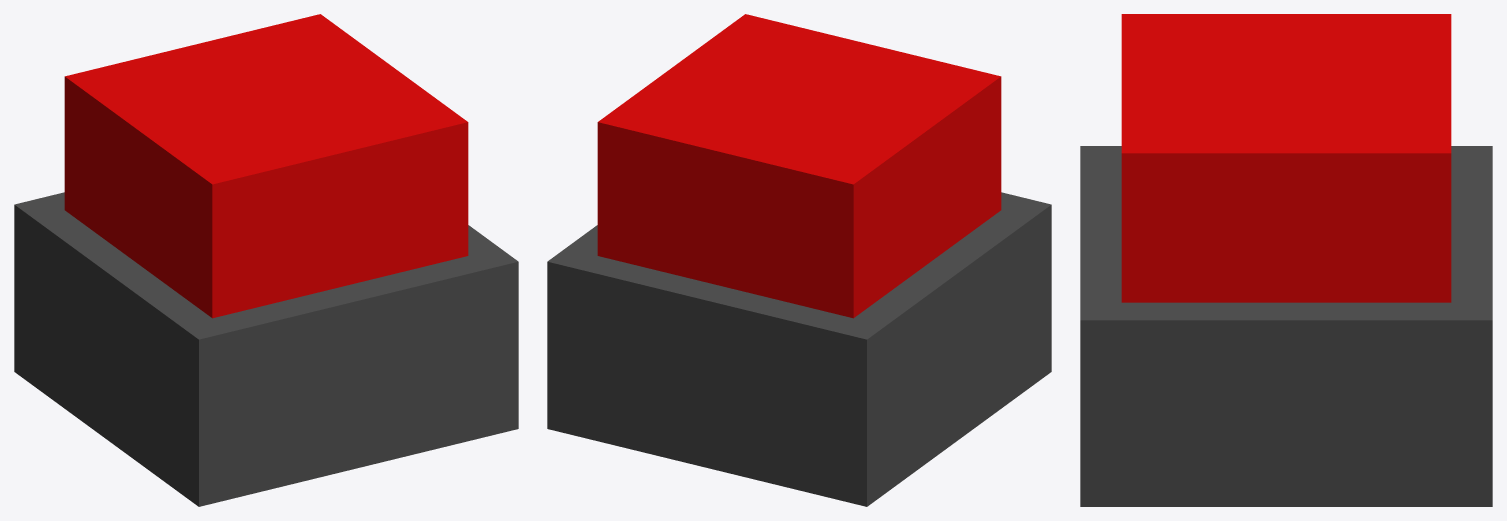
Rendered from Button_Up.fbx.
3 renders of one model, left to right at view 1: azimuth 30°, elevation 25°; view 2: azimuth 150°, elevation 25°; view 3: azimuth 270°, elevation 25°, orthographic. The views are drawn at different scales.
Visible parts, largest first — view 1: pCube5; view 2: pCube5; view 3: pCube5.
Part boxes in pixels (x1,y1,x2,y2): pCube5: (14, 14, 518, 506); pCube5: (547, 14, 1051, 506); pCube5: (1080, 14, 1492, 506).
Size of the model in its own units: 1 by 0.9 by 1.
